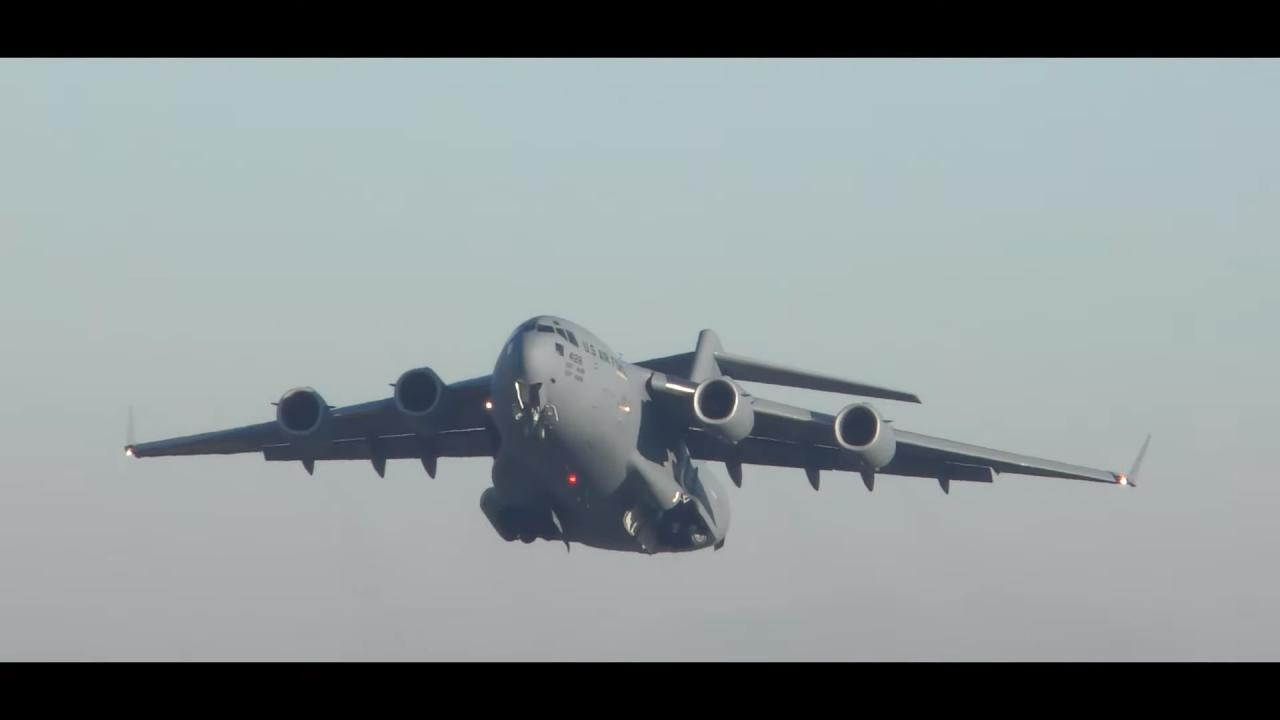Airplane: (114, 295, 1154, 574)
